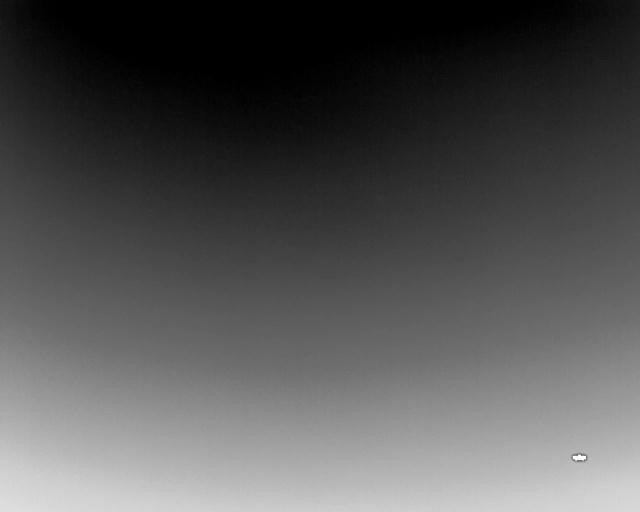fpv-drone: (571, 453, 587, 462)
